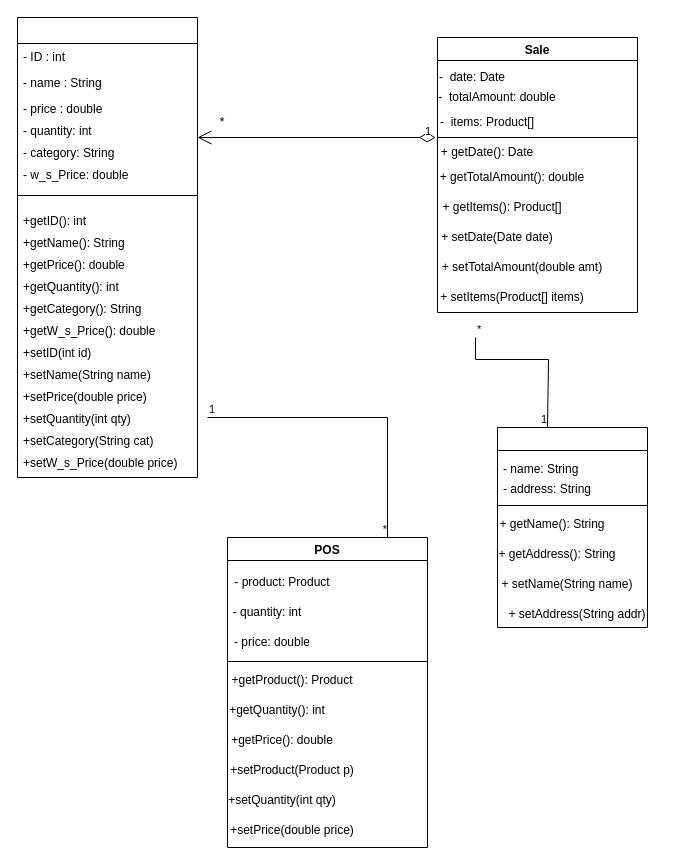
The diagram is 675 pixels wide and 865 high, and some of its shapes have lost their labels. Each missing label, with the box of its shape:
Customer: (496, 426, 648, 628)
Product: (16, 16, 198, 478)
